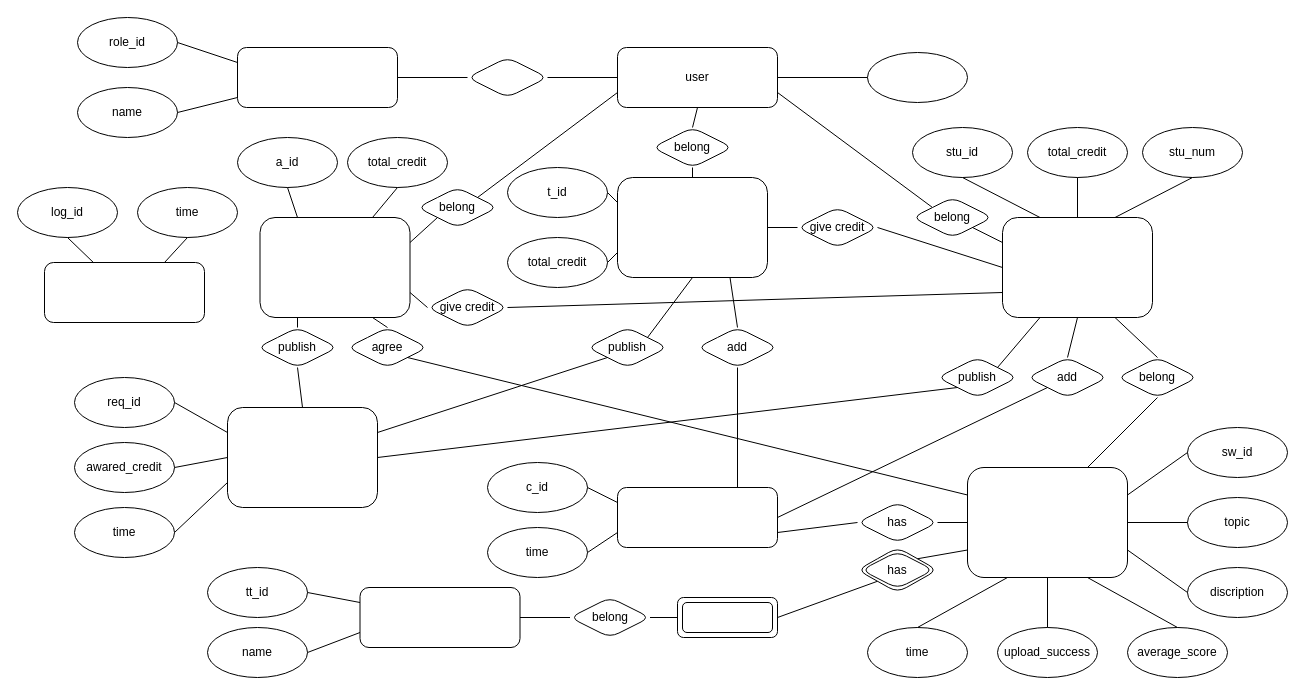
Image size: 1305x695. Some labels were removed from this diagram. The shapes that lost their labels are listed below. From the top down, each one's box as (x1, y1, x2, y2) in pixels, then its label:
(236, 46, 398, 108): role
(466, 56, 548, 98): is
(866, 52, 968, 102): user_id
(616, 176, 768, 278): teacher
(259, 216, 410, 318): admin
(1002, 216, 1152, 318): student
(44, 262, 204, 322): login_record
(226, 406, 378, 508): requirement
(616, 486, 778, 548): comment
(966, 466, 1128, 578): software
(359, 586, 520, 648): tag_type
(676, 596, 778, 638): tags
